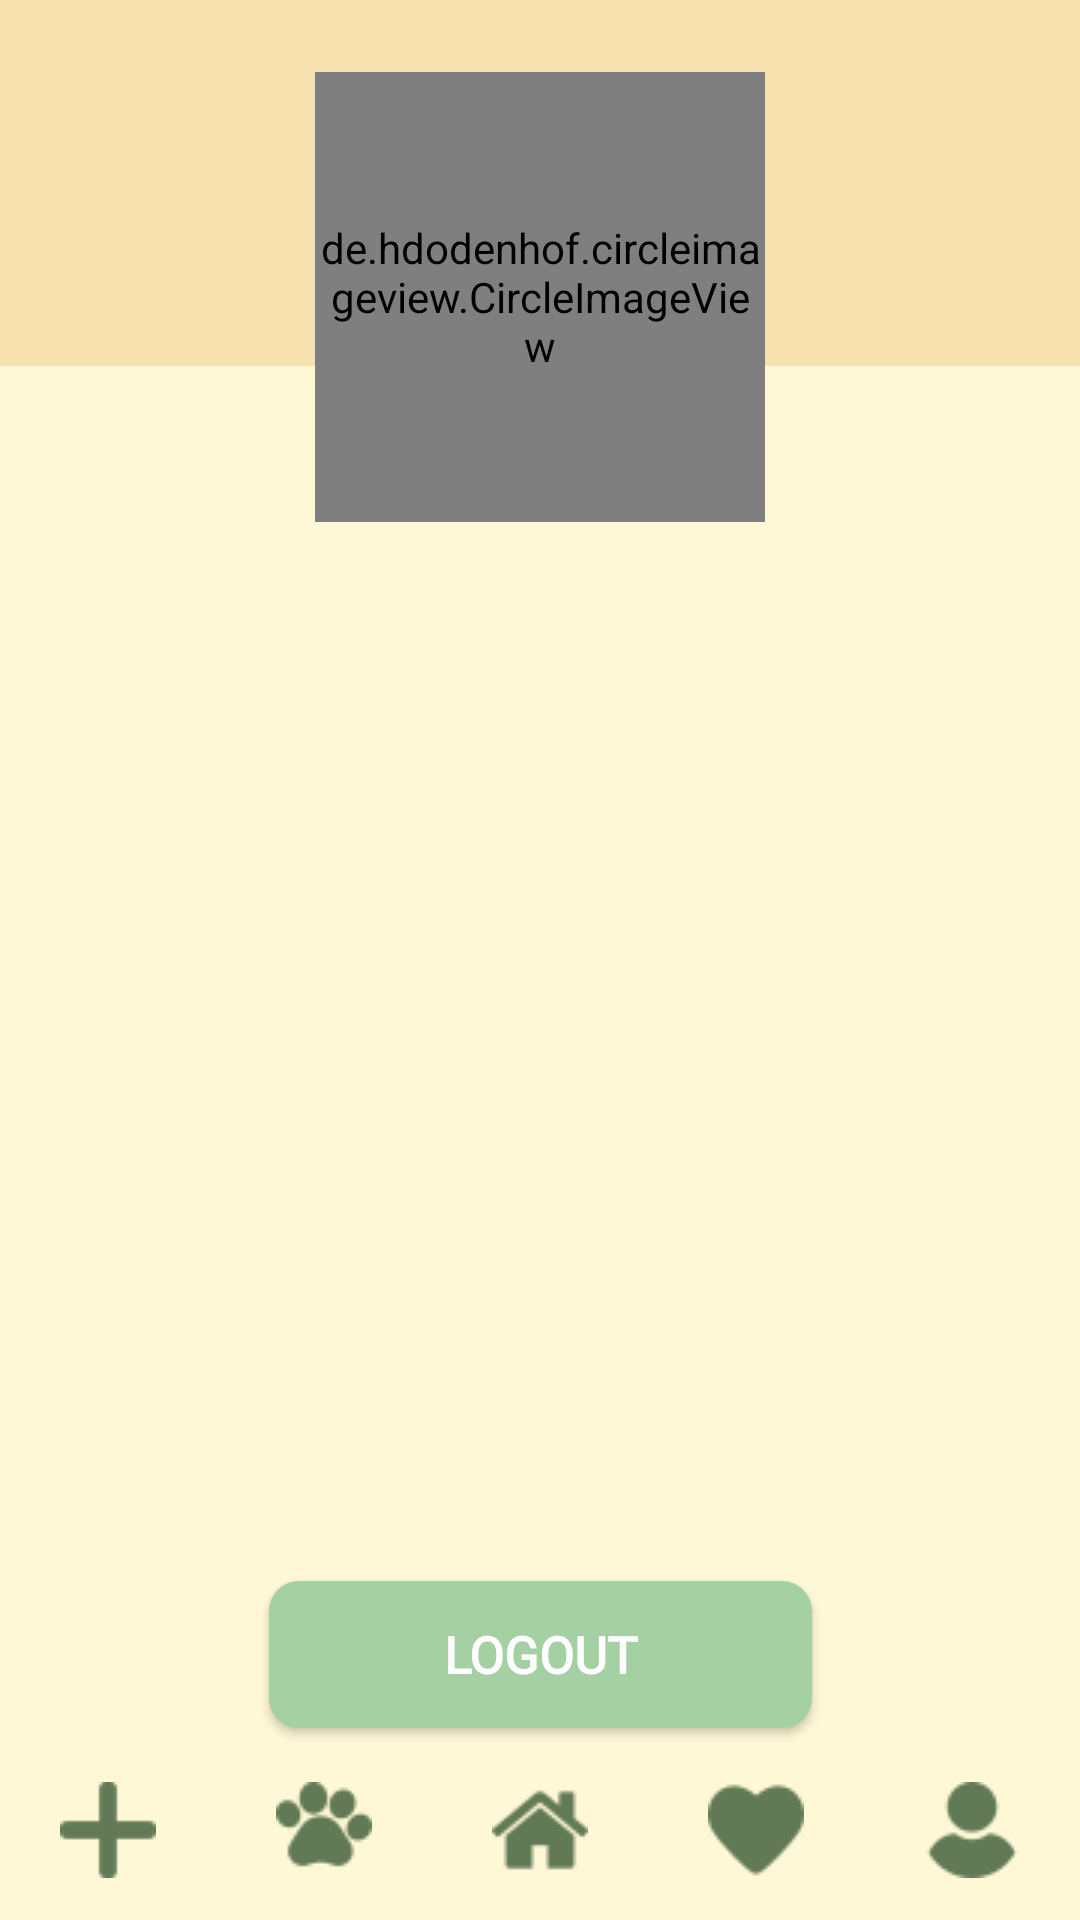

Icons on this 1080 × 1920 Android screen, each with the point to tap as [x,y]:
home: [540,1830]
like: [756,1830]
pawprint: [324,1824]
post: [108,1830]
Profile Data: [972,1830]
